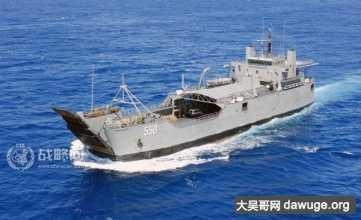warship: (52, 23, 313, 161)
